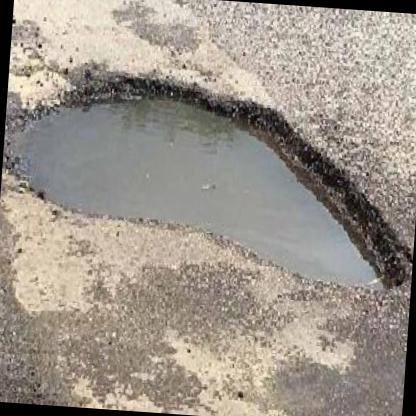pothole: (0, 65, 416, 300)
